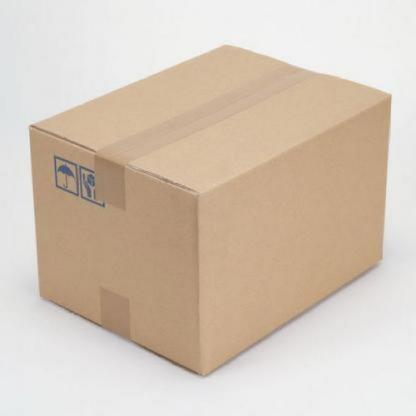-: (16, 36, 406, 377)
